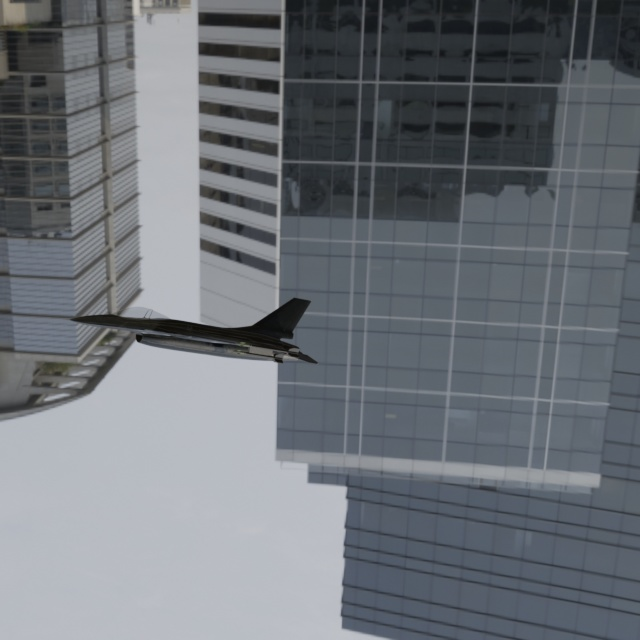model: (35, 255, 353, 378)
